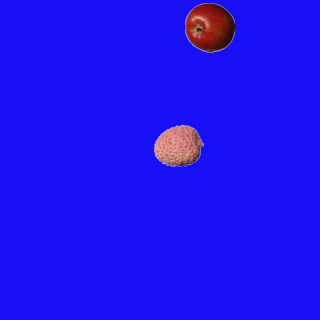Apple Braeburn: (184, 2, 234, 52)
Lychee: (153, 120, 203, 170)
